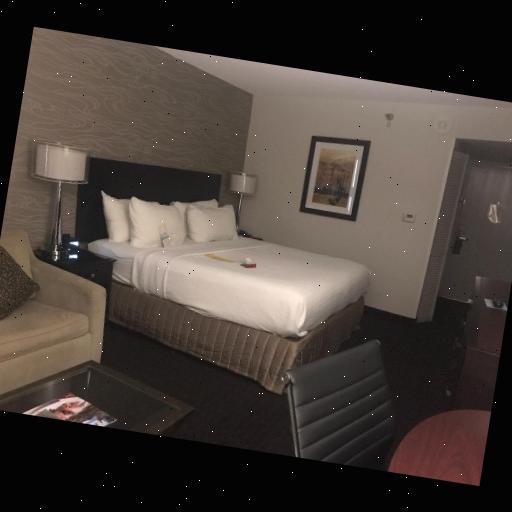chair: (272, 324, 413, 478)
clean_bed: (72, 159, 377, 395)
lamp: (14, 134, 93, 260), (216, 164, 266, 231)
organised_pillow: (100, 189, 237, 247)
